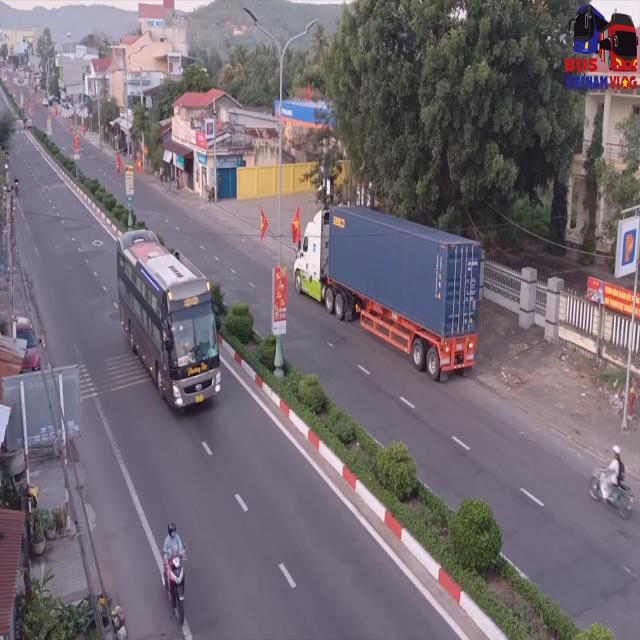bus: (114, 230, 225, 415)
motorbike: (587, 448, 630, 524), (160, 521, 187, 627)
truck: (292, 208, 482, 386)
